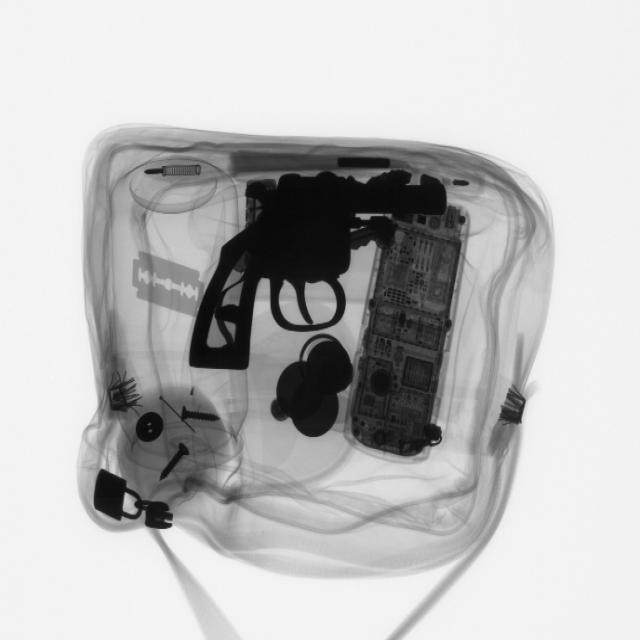BLADE: (128, 249, 207, 318)
GUN: (193, 176, 444, 383)
SCREW: (154, 439, 195, 484), (176, 402, 225, 432)
